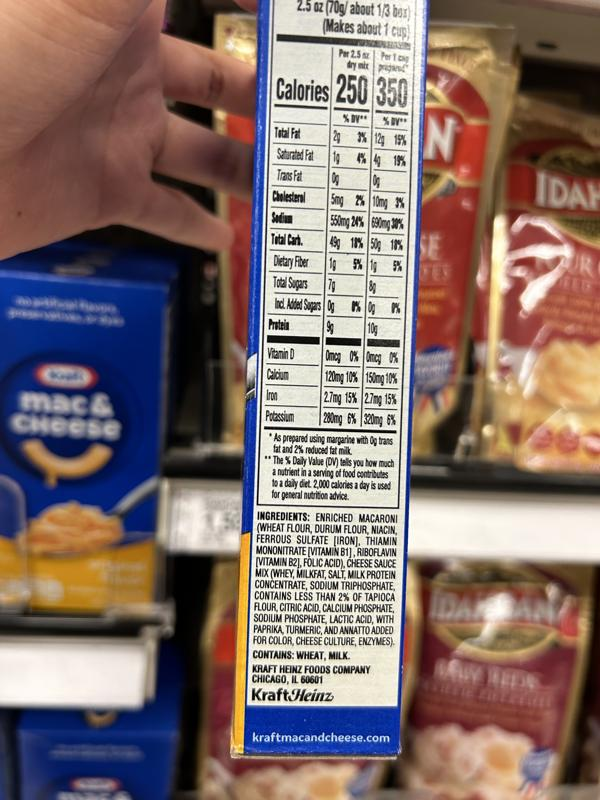ingredients: (251, 510, 398, 649)
